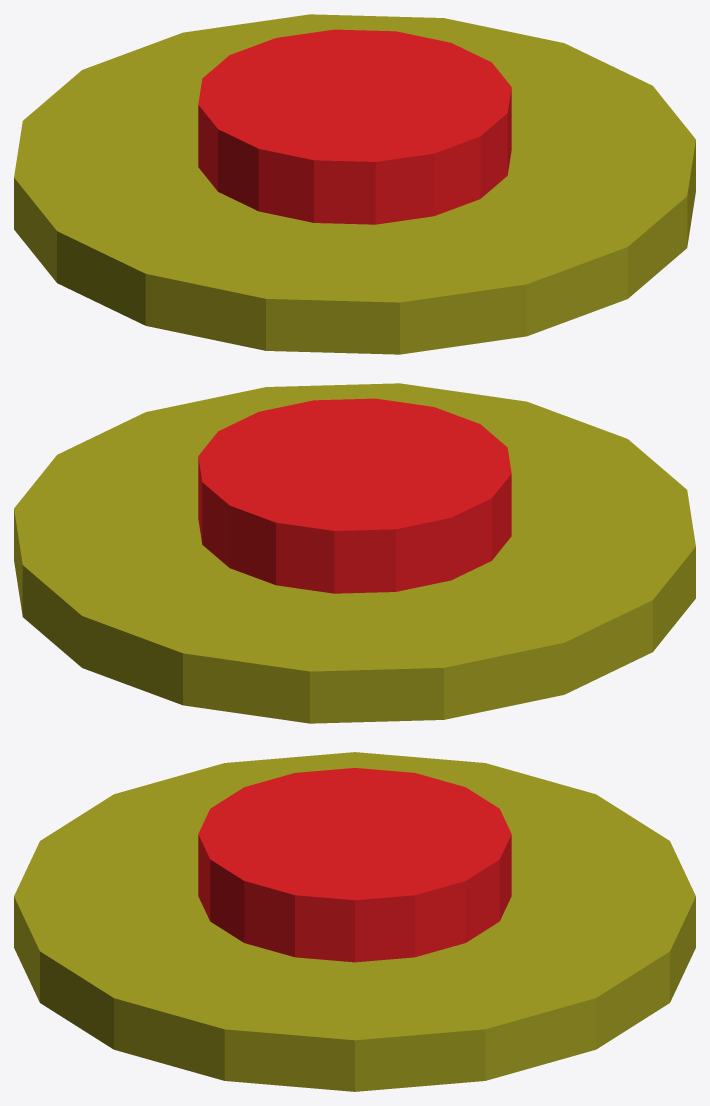
The model's file is LandMine2.fbx.
3 renders of one model, top to bottom at view 1: azimuth 30°, elevation 25°; view 2: azimuth 150°, elevation 25°; view 3: azimuth 270°, elevation 25°, orthographic.
Visible parts, largest first — view 1: Cylinder.001; view 2: Cylinder.001; view 3: Cylinder.001.
Boxes of the visible parts, x1,y1,x2,y2 form: Cylinder.001: (14, 14, 695, 354); Cylinder.001: (14, 383, 695, 723); Cylinder.001: (14, 752, 695, 1091).
Bounding box in the file's own units: 200 × 36.8 × 200.
